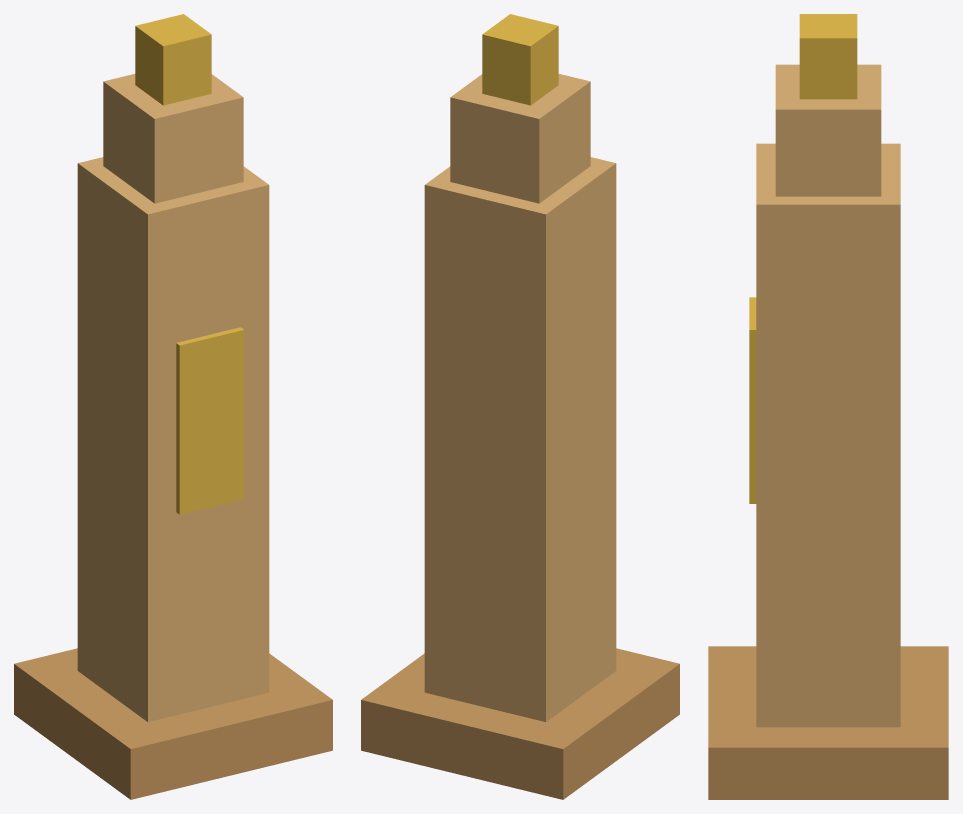
File: Obelisk.glb
3 views of the same model, side by side, from view 1: azimuth 30°, elevation 25°; view 2: azimuth 150°, elevation 25°; view 3: azimuth 270°, elevation 25° (orthographic). The views are drawn at different scales.
Visible parts, largest first — view 1: Obelisk; view 2: Obelisk; view 3: Obelisk.
Part boxes in pixels (<box>): Obelisk: <box>14,14,332,799</box>; Obelisk: <box>361,14,679,799</box>; Obelisk: <box>708,14,948,799</box>.
Size of the model in its own units: 5 by 16.6 by 5.
1 material, 1 textured.
